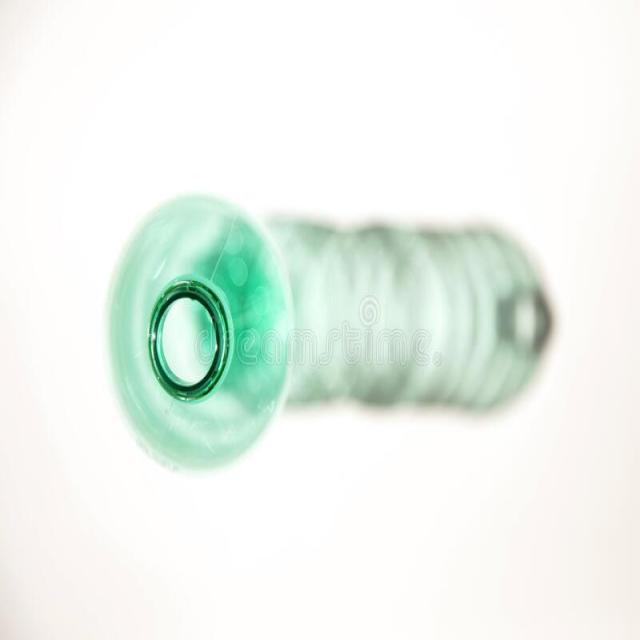Plastico: (110, 202, 289, 473), (154, 288, 222, 391)
